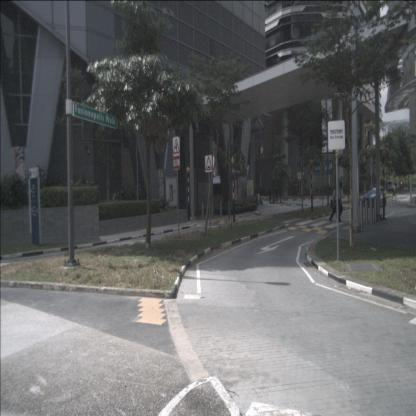human-pedestrian-adult: (329, 184, 337, 221), (337, 182, 343, 223), (392, 183, 398, 201), (272, 186, 276, 204), (275, 188, 279, 204), (268, 188, 272, 204)
vehicle-car: (363, 185, 386, 207), (394, 182, 404, 191), (387, 181, 395, 192)
